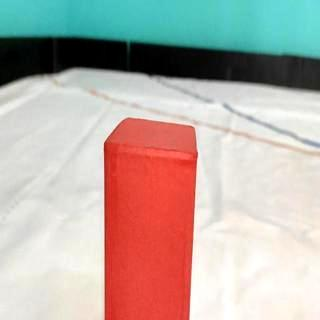redbox: (104, 115, 197, 320)
